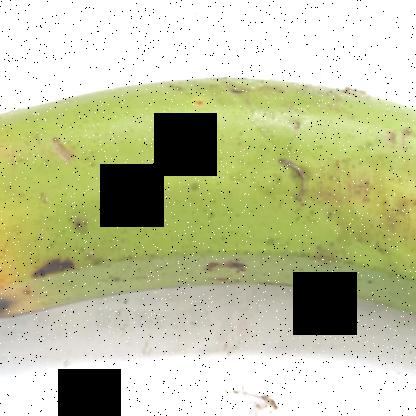unripe: (36, 56, 415, 331)
